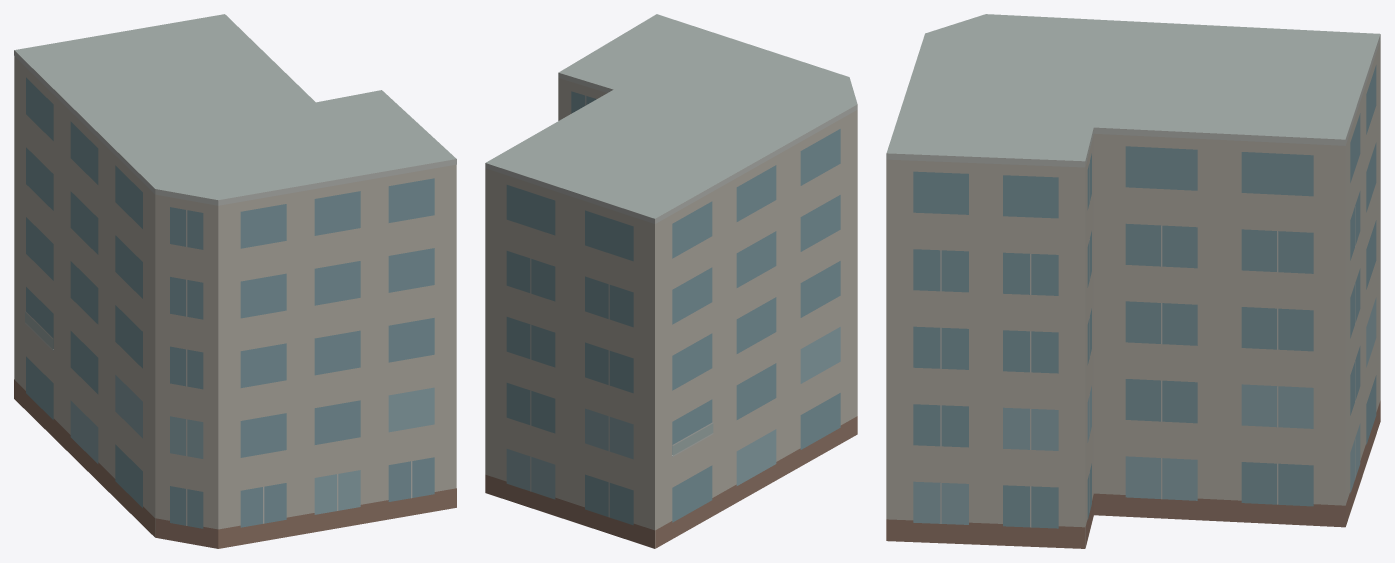
Rendered from survey-upis-33006866.glb.
3 renders of one model, left to right at view 1: azimuth 30°, elevation 25°; view 2: azimuth 150°, elevation 25°; view 3: azimuth 270°, elevation 25°, orthographic. The views are drawn at different scales.
Visible parts, largest first — view 1: survey-upis-33006866.tmp; view 2: survey-upis-33006866.tmp; view 3: survey-upis-33006866.tmp.
Boxes of the visible parts, bbox=[...] form: survey-upis-33006866.tmp: bbox=[14, 14, 456, 548]; survey-upis-33006866.tmp: bbox=[485, 14, 857, 548]; survey-upis-33006866.tmp: bbox=[886, 14, 1380, 548].
Size of the model in its own units: 12.43 by 15.25 by 17.63.
